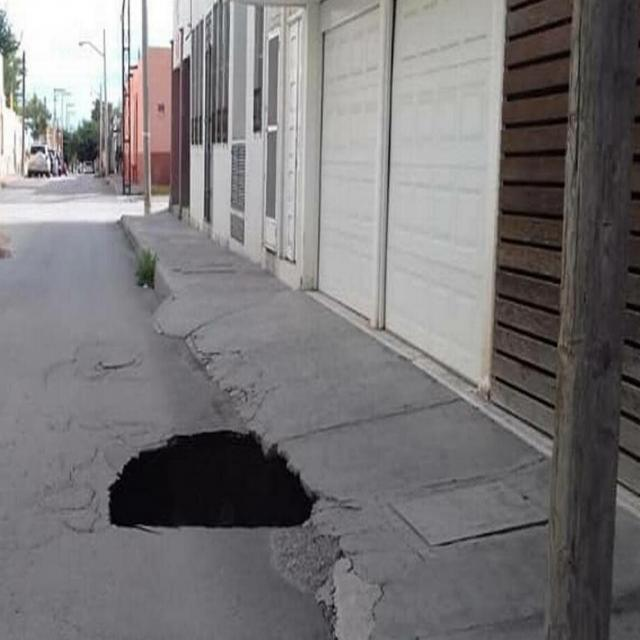Pothole: (73, 416, 378, 582)
